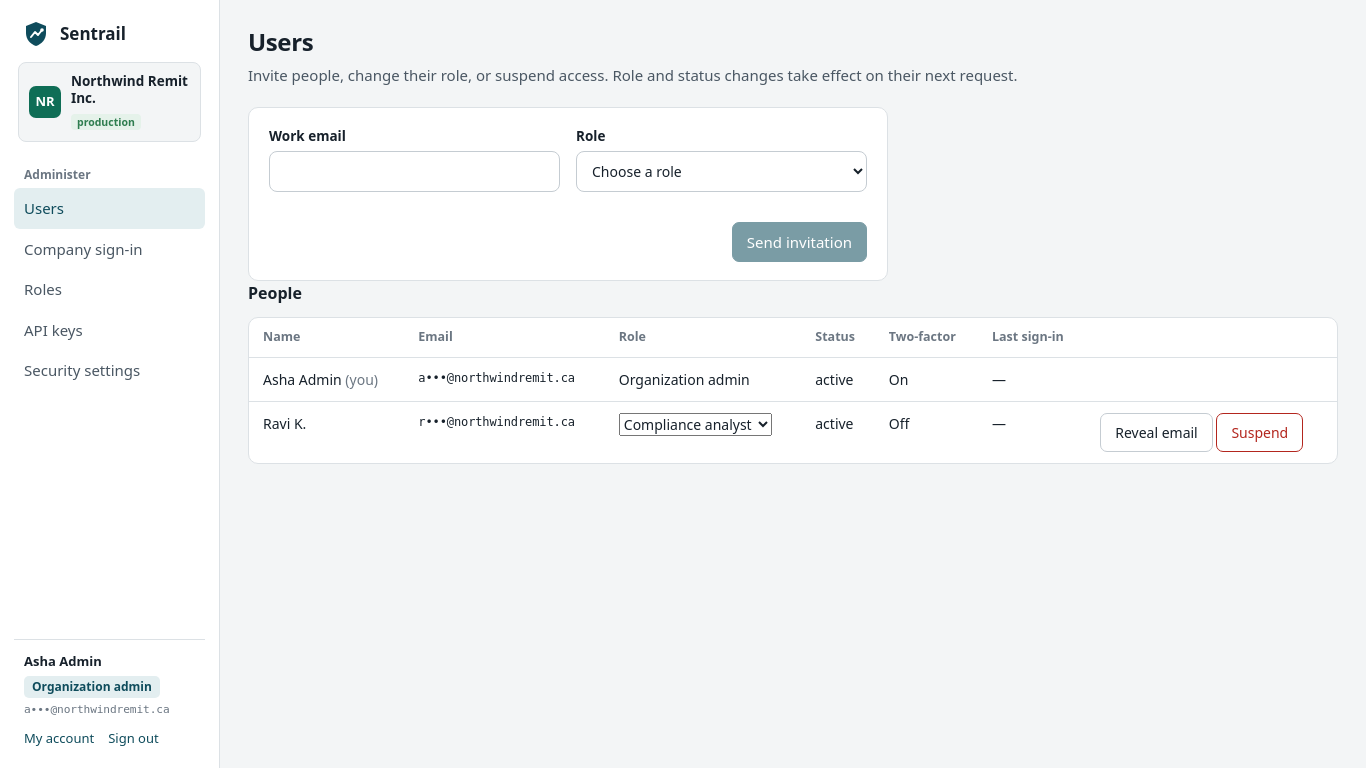
Test: Users › shows the API's reason when a change is refused
The width and height of the screenshot is (1366, 768).
Click the button "Suspend".
click(1260, 432)  # box [1216,413,1303,452]
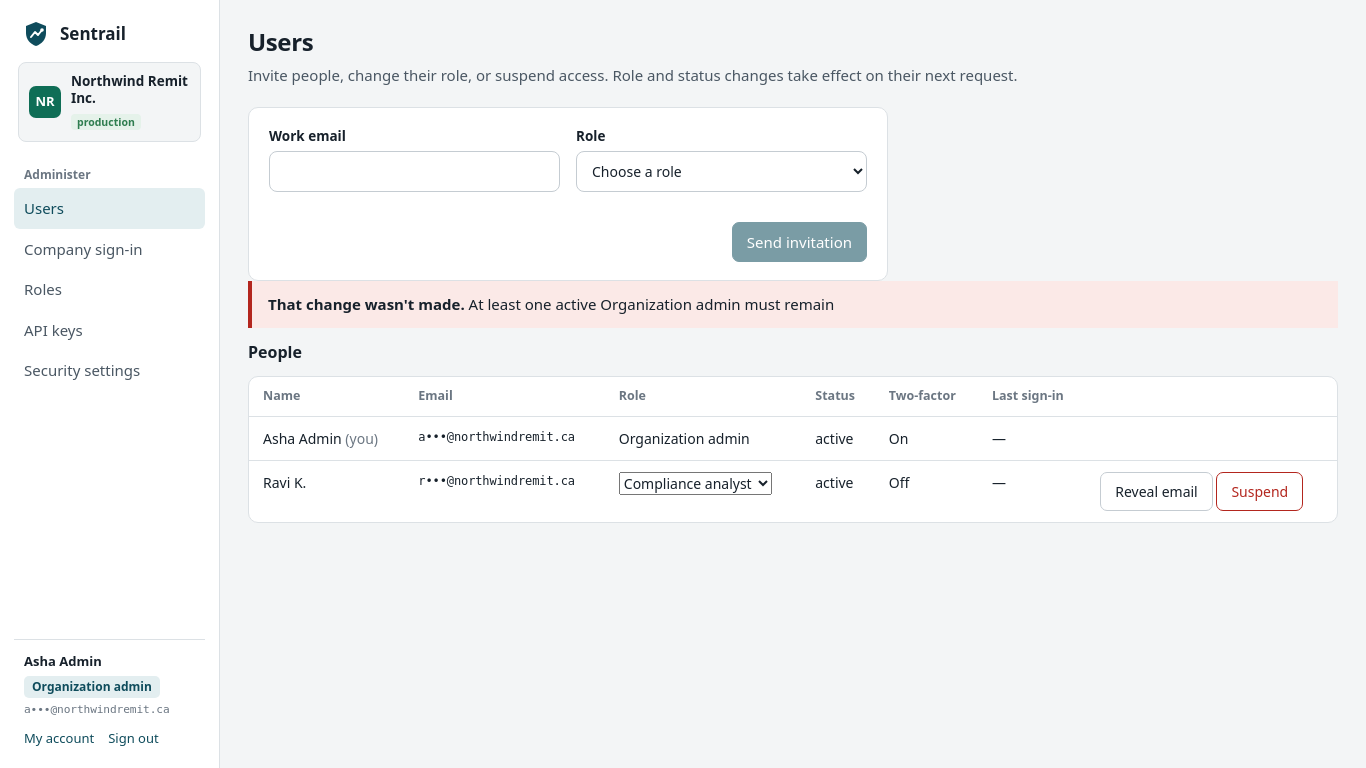
Now the message shows "At least one active Organization admin must remain", box [469,294,834,314]
